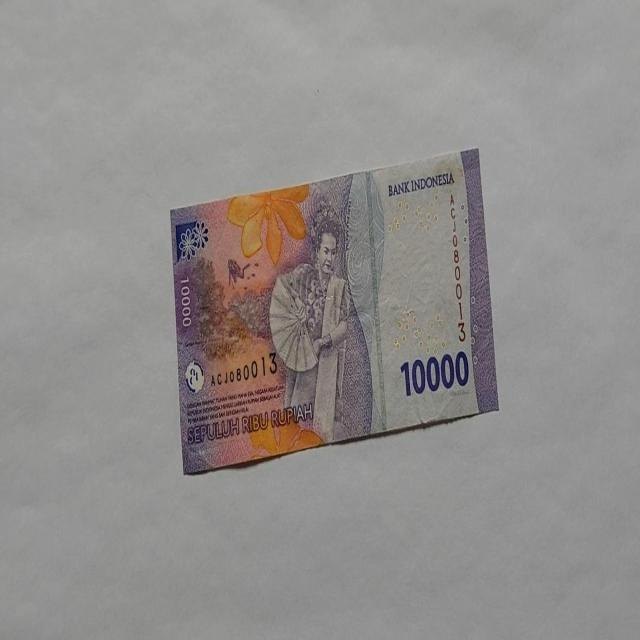Kertas: (169, 145, 499, 475), (399, 350, 469, 398)
